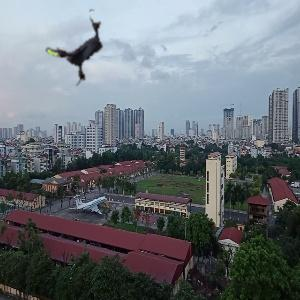drone: (40, 7, 123, 90)
